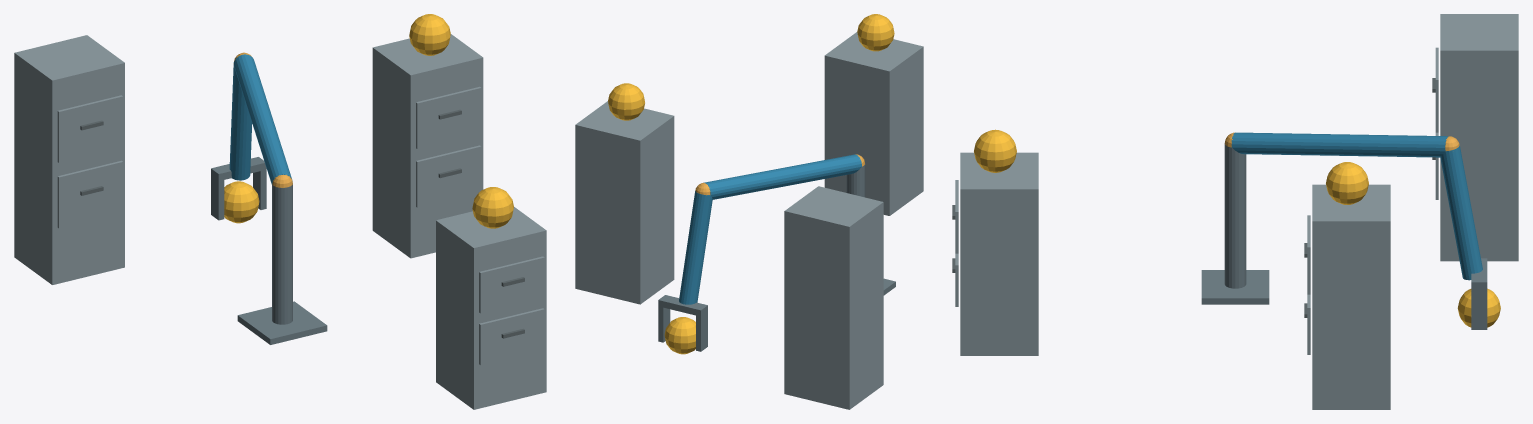
The picture shows the model from 3 angles, left to right: view 1: azimuth 30°, elevation 25°; view 2: azimuth 150°, elevation 25°; view 3: azimuth 270°, elevation 25°; orthographic projection. The views are drawn at different scales.
Parts seen in each view (by area): view 1: cabinet_3 body, cabinet_2 body, cabinet_1 body, cabinet_3 drawer front, cabinet_3 drawer front.001, cabinet_2 drawer front, cabinet_2 drawer front.001, fixed post, moving link 1, cabinet_1 drawer front, cabinet_1 drawer front.001, pedestal (+6 smaller); view 2: cabinet_3 body, cabinet_2 body, cabinet_1 body, moving link 1, moving link 2, released ball_1, released ball_2, ball ball_3, gripper bridge, fixed post, gripper finger -1, gripper finger 1; view 3: cabinet_2 body, cabinet_3 body, cabinet_1 body, moving link 1, fixed post, moving link 2, pedestal, released ball_1, released ball_2, ball ball_3, gripper finger 1.
Part boxes in pixels (box(x1,y1,x2,y2)): cabinet_3 body: box(14, 35, 124, 284); cabinet_2 body: box(372, 34, 483, 258); cabinet_1 body: box(436, 207, 546, 409); cabinet_3 drawer front: box(57, 160, 122, 228); cabinet_3 drawer front.001: box(57, 95, 122, 162); cabinet_2 drawer front: box(416, 145, 481, 207); cabinet_2 drawer front.001: box(416, 86, 481, 149); fixed post: box(272, 183, 292, 324); moving link 1: box(234, 54, 291, 184); cabinet_1 drawer front: box(479, 308, 544, 365); cabinet_1 drawer front.001: box(479, 256, 544, 313); pedestal: box(237, 301, 327, 344); cabinet_3 body: box(784, 186, 883, 409); cabinet_2 body: box(575, 101, 674, 304); cabinet_1 body: box(824, 32, 923, 215); moving link 1: box(704, 154, 861, 199); moving link 2: box(679, 191, 712, 304); released ball_1: box(857, 14, 894, 51); released ball_2: box(608, 83, 644, 120); ball ball_3: box(664, 317, 695, 354); gripper bridge: box(658, 295, 707, 316); fixed post: box(846, 163, 865, 197); gripper finger -1: box(696, 312, 707, 351); gripper finger 1: box(658, 306, 670, 342); cabinet_2 body: box(1312, 184, 1390, 409); cabinet_3 body: box(1440, 14, 1518, 261); cabinet_1 body: box(960, 152, 1038, 355); moving link 1: box(1231, 132, 1448, 157); fixed post: box(1224, 144, 1246, 288); moving link 2: box(1440, 145, 1482, 280); pedestal: box(1201, 270, 1269, 304); released ball_1: box(974, 129, 1016, 172); released ball_2: box(1326, 162, 1368, 204); ball ball_3: box(1457, 288, 1500, 327); gripper finger 1: box(1471, 289, 1487, 329).
Bounding box in the file's own units: 1.62 × 0.93 × 2.1.
